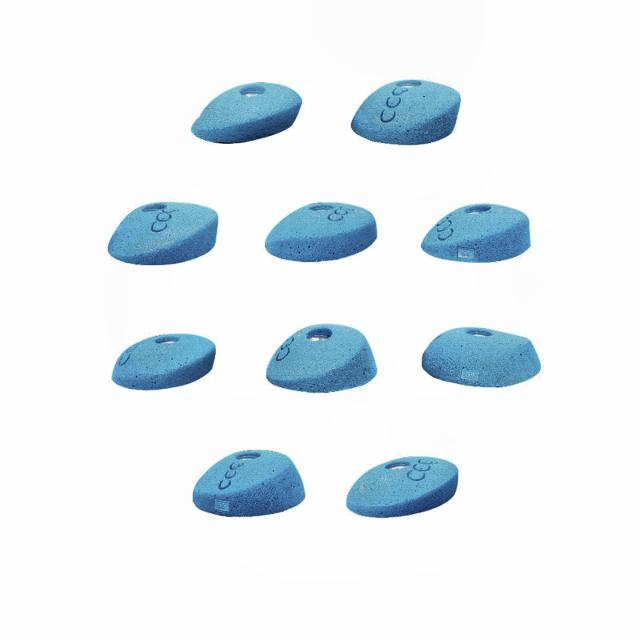Hold: (103, 192, 220, 269), (184, 445, 310, 516), (264, 194, 378, 268), (347, 77, 468, 145), (339, 459, 462, 522), (261, 323, 376, 389), (420, 198, 531, 264), (114, 322, 216, 391), (426, 327, 538, 388), (191, 83, 303, 144)
